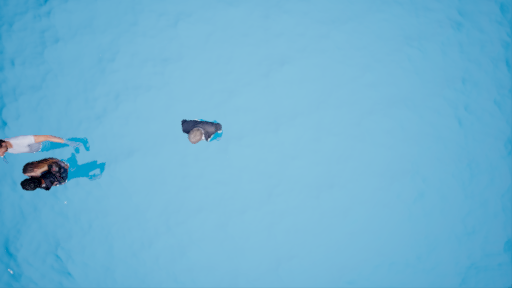person: (16, 151, 114, 199), (180, 107, 233, 151), (1, 132, 96, 154)
